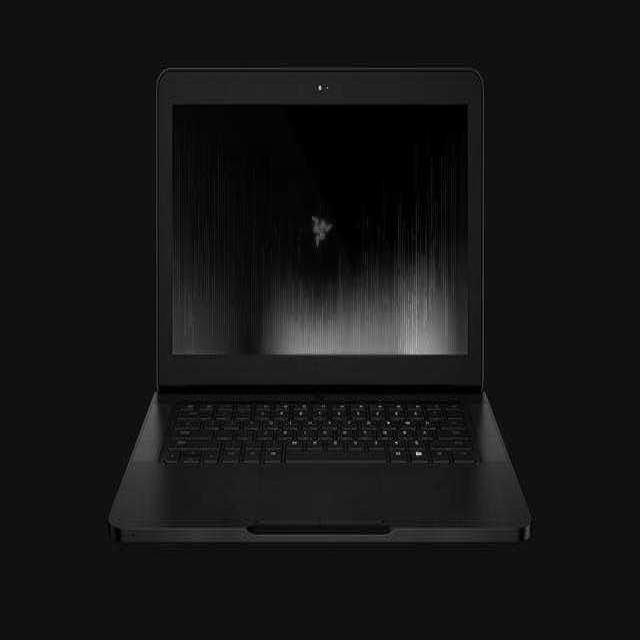laptop: (106, 53, 526, 581)
